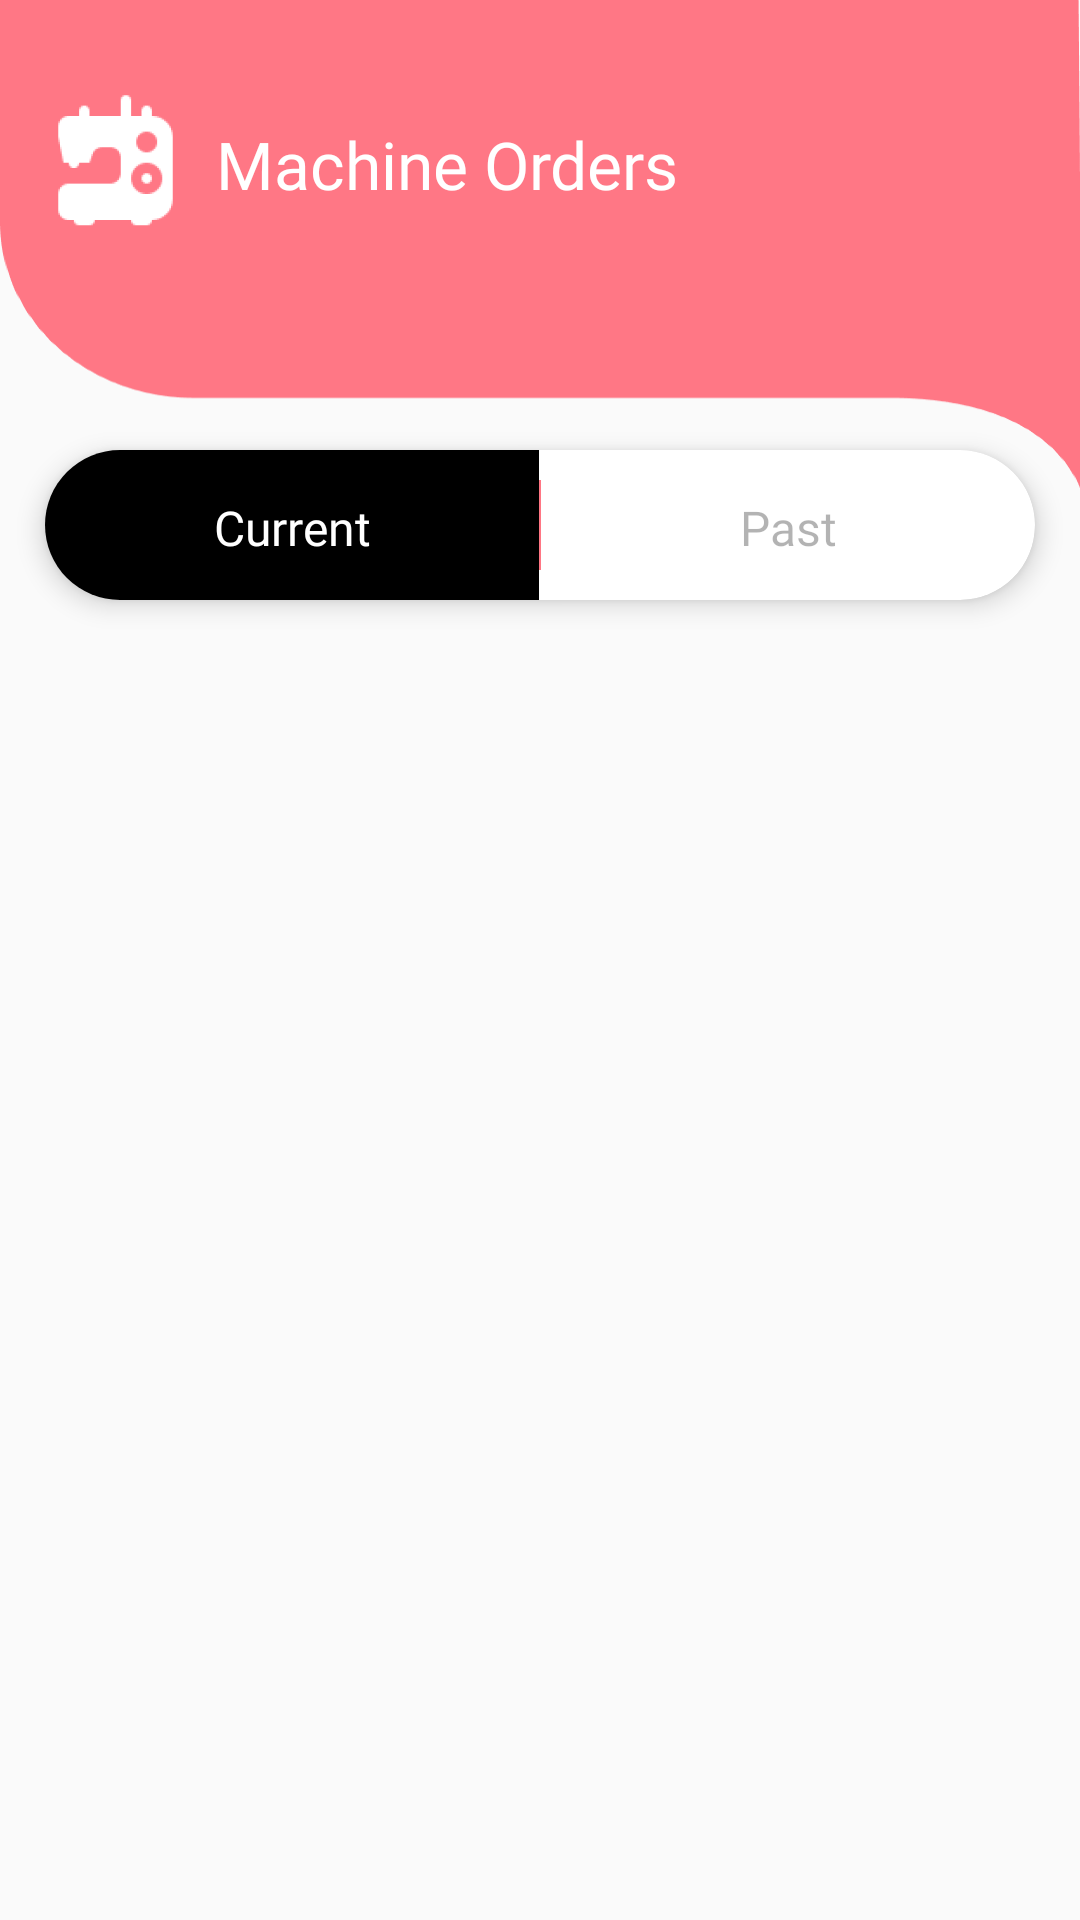

Locate icon controls on the screen. Image size 1080px×1920px, boxes as (x1, y1, x2, y2).
sewing machine: (58, 95, 173, 226)
